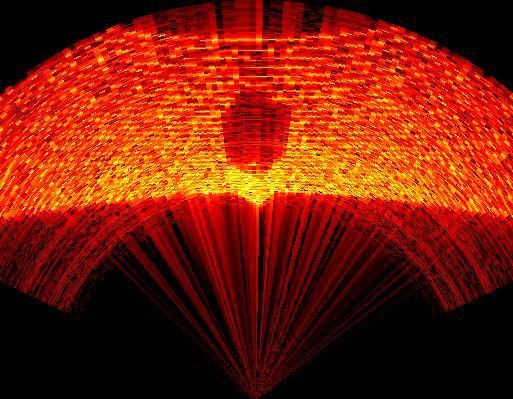box_crate: (222, 88, 290, 181)
